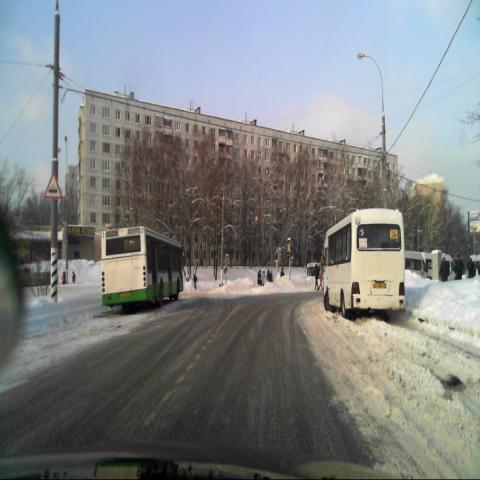1_5: (44, 172, 61, 200)
